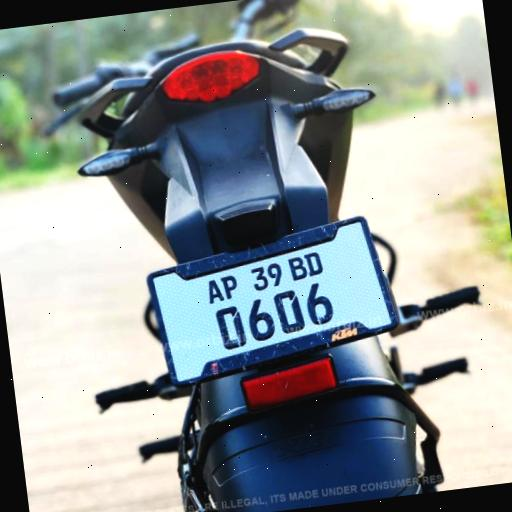number plate: (139, 219, 400, 370)
